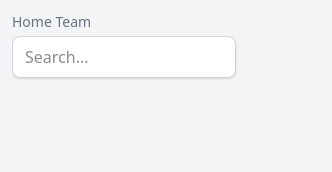
Test case: SearchableSelect › shows a no matches message when nothing matches
This screenshot has width=332, height=172.
In the dropdown labelled "Home Team": x=124, y=57 [12,36,236,78], type "zzz"
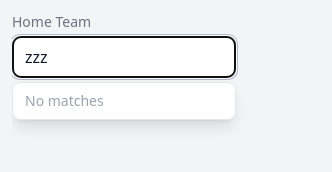
expect the list item "No matches" is shown: met, box [25,91,104,110]
